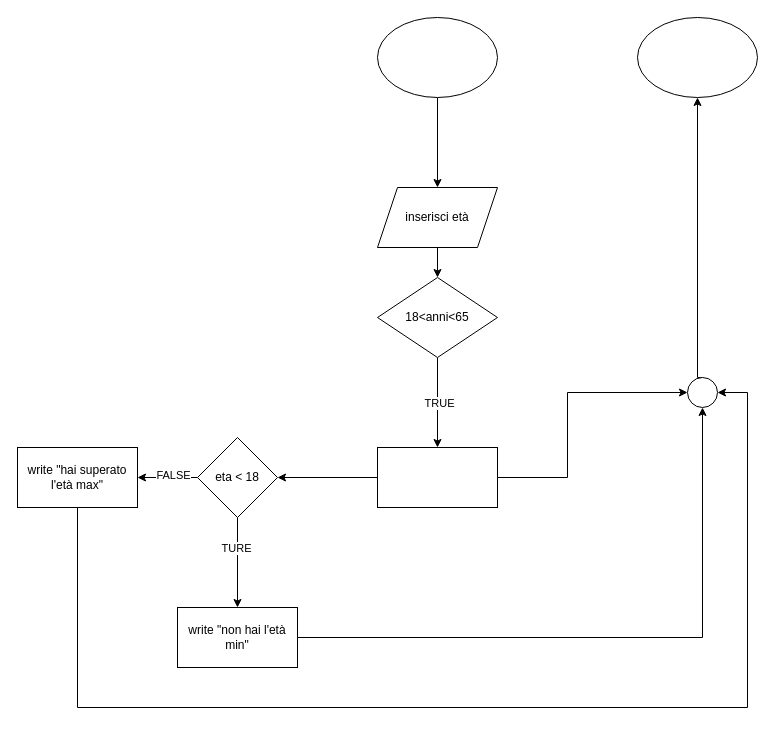
Image size: 775x733. Some labels were removed from this diagram. The shapes that lost their labels are listed below. From the top down, each one's centre as x and y in pixels, then its label:
(x=437, y=57): INIZIO
(x=697, y=57): FINE
(x=437, y=477): write "puoi partecipare "
